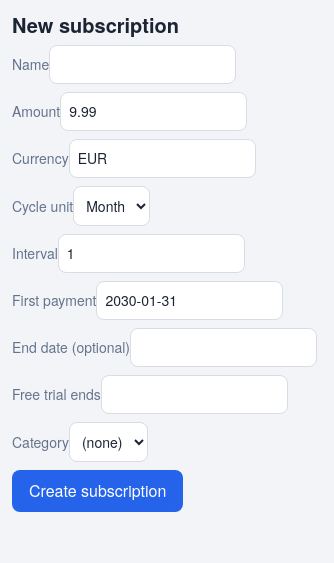
Test case: SubscriptionForm › affiche l'erreur de validation par champ
The width and height of the screenshot is (334, 563).
Click the button with test id "sub-submit".
click(98, 491)  # box [12, 470, 183, 512]
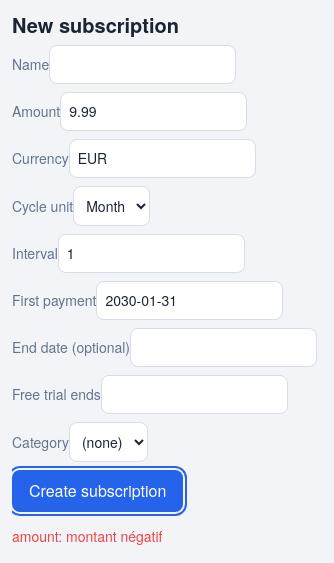
Expected: the message with test id "sub-error" shows "amount", [12, 526, 162, 546]
